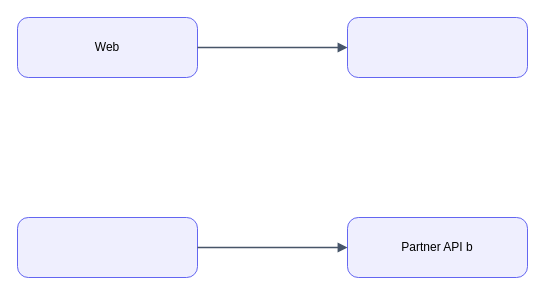
This 545x295 diagram has some shape labels left out. Each missing label, with the box of its shape:
Batch: (16, 216, 198, 278)
Partner API a: (346, 16, 528, 78)
